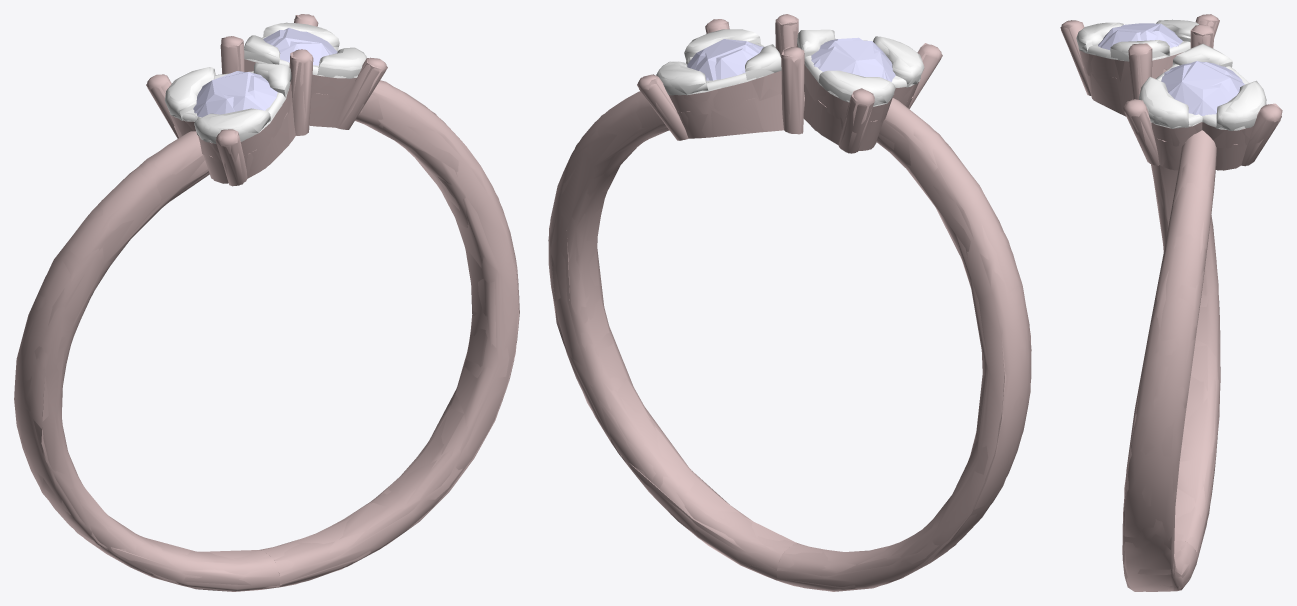
File: DLR-D000736708.glb
3 renders of one model, left to right at view 1: azimuth 30°, elevation 25°; view 2: azimuth 150°, elevation 25°; view 3: azimuth 270°, elevation 25°, orthographic.
Parts seen in each view (by area): view 1: highPolyMesh, lowPolyMesh; view 2: highPolyMesh, lowPolyMesh; view 3: highPolyMesh, lowPolyMesh.
Part boxes in pixels (bbox=[...]): highPolyMesh: bbox=[14, 14, 519, 591]; lowPolyMesh: bbox=[14, 15, 519, 591]; highPolyMesh: bbox=[548, 14, 1031, 591]; lowPolyMesh: bbox=[549, 18, 1030, 591]; highPolyMesh: bbox=[1061, 14, 1281, 591]; lowPolyMesh: bbox=[1060, 14, 1282, 591].
Size of the model in its own units: 0.0194 by 0.0207 by 0.00785.
